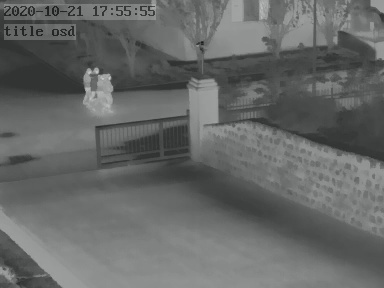person: (97, 69, 114, 110), (80, 67, 95, 106)
